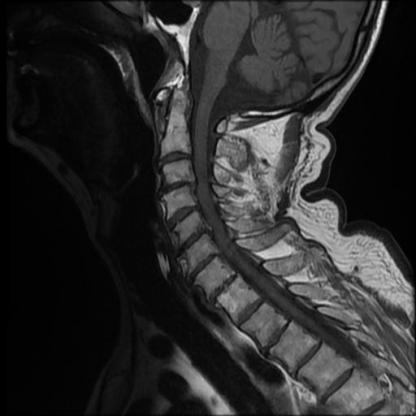Disc Bulgerotation: (182, 253, 227, 272), (163, 207, 201, 225), (170, 235, 214, 249), (157, 151, 191, 167), (159, 180, 197, 193)
Disc Protrusionrotation: (157, 151, 191, 168)
